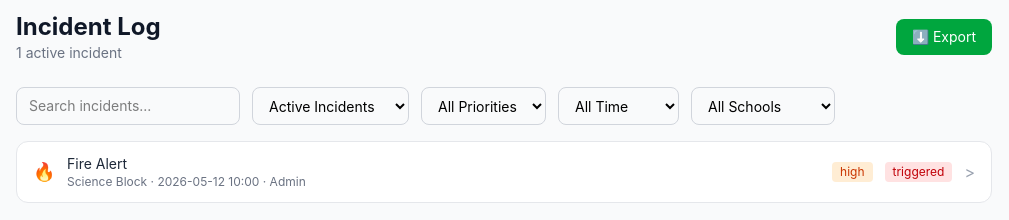
Incidents Page › filters incidents by resolved status
This screenshot has width=1009, height=220.
Expected: the text "Fire Alert" is shown, [67,155,127,172]
Select "Resolved" in the 1st dropdown at (330, 106), box [252,87,409,125]
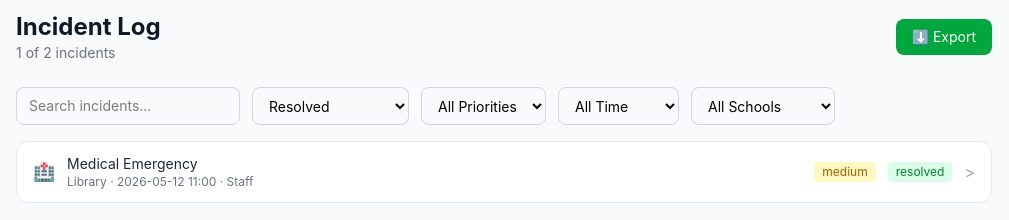
Expected: the text "Medical Emergency" is shown, [67,155,198,172]
Expected: the text "Fire Alert" is gone
